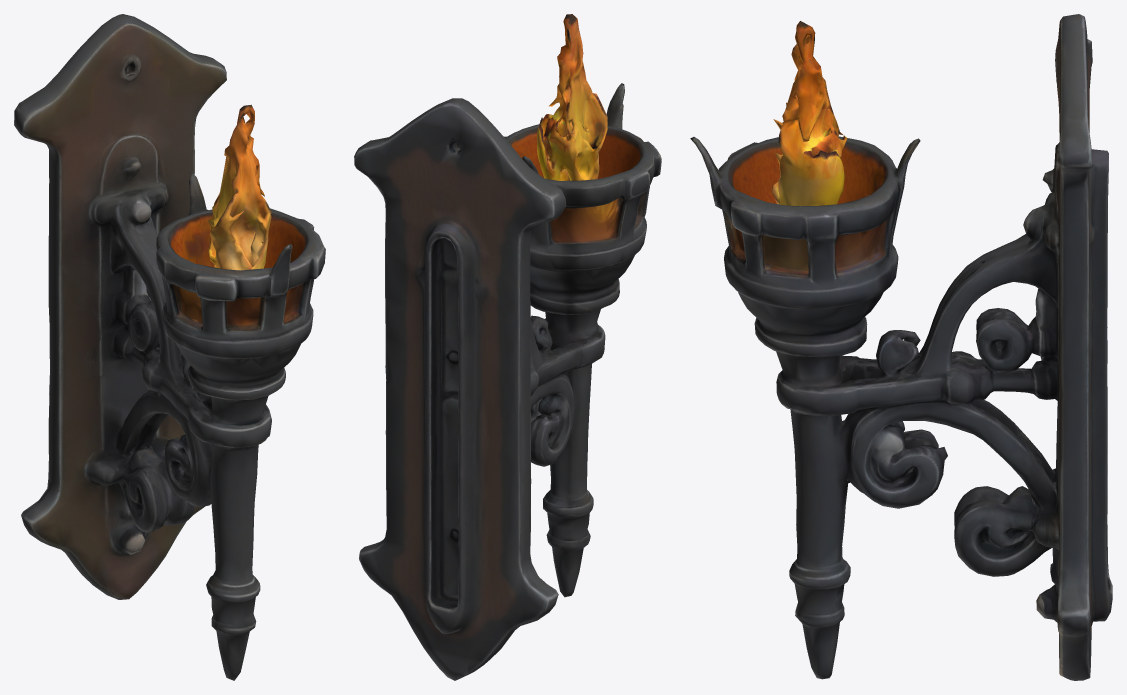
File: wall_torch_iron.glb
The picture shows the model from 3 angles, left to right: view 1: azimuth 30°, elevation 25°; view 2: azimuth 150°, elevation 25°; view 3: azimuth 270°, elevation 25°; orthographic projection. The views are drawn at different scales.
Size of the model in its own units: 0.7416 by 2 by 1.15.
1 material, 1 textured.
